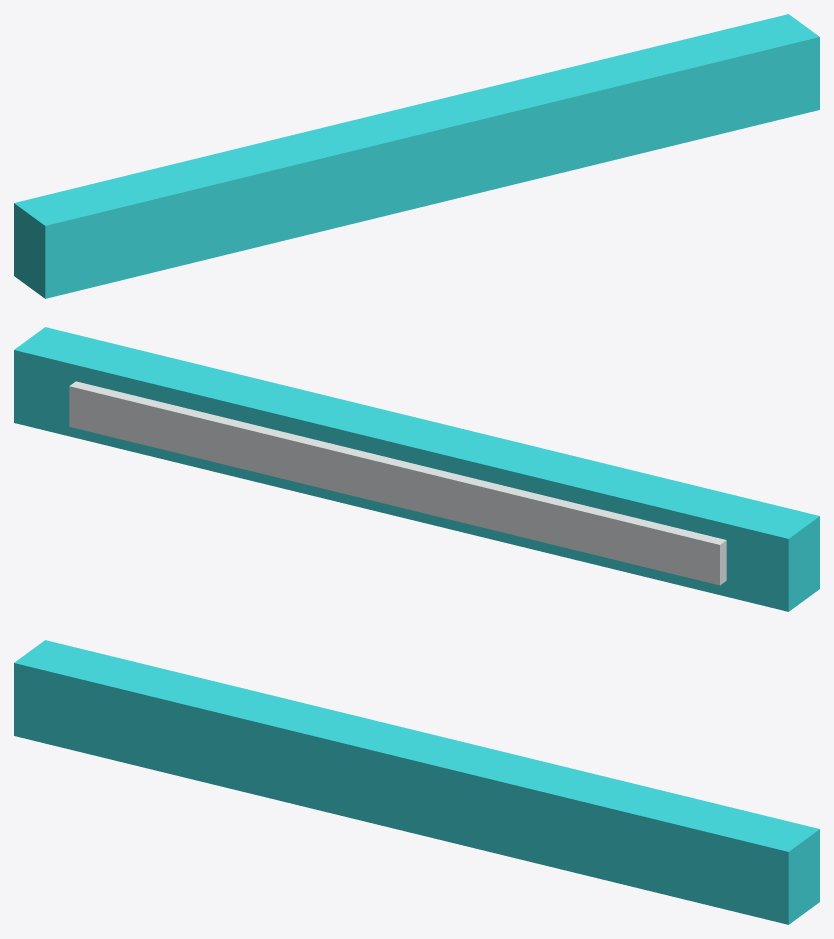
File: under-cabinet-light.glb
3 views of the same model, one above another, from view 1: azimuth 30°, elevation 25°; view 2: azimuth 150°, elevation 25°; view 3: azimuth 330°, elevation 25° (orthographic).
Visible parts, largest first — view 1: world; view 2: world; view 3: world.
Part boxes in pixels (x1,y1,x2,y2): world: (14, 14, 819, 298); world: (14, 327, 819, 611); world: (14, 640, 819, 924).
Bounding box in the file's own units: 1 × 0.09 × 0.085.
